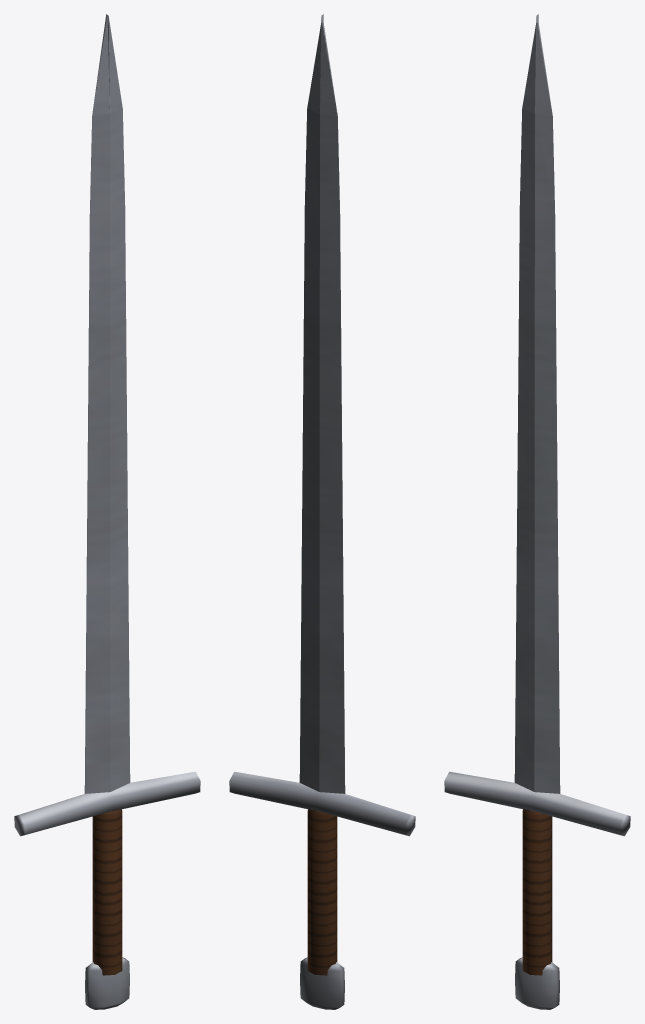
File: epee-longue.glb
3 views of the same model, side by side, from view 1: azimuth 30°, elevation 25°; view 2: azimuth 150°, elevation 25°; view 3: azimuth 330°, elevation 25° (orthographic).
Parts seen in each view (by area): view 1: epee-longue; view 2: epee-longue; view 3: epee-longue.
Part boxes in pixels (x1,y1,x2,y2): epee-longue: (14,14,200,1009); epee-longue: (229,14,415,1009); epee-longue: (444,14,630,1009).
Size of the model in its own units: 0.2012 by 1.08 by 0.03.
1 material, 1 textured.
